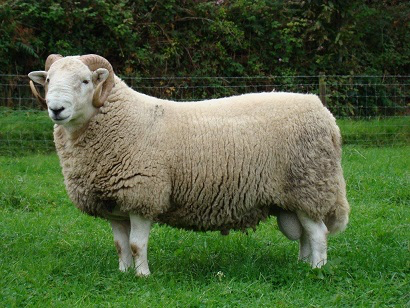koyun: (31, 51, 351, 270)
